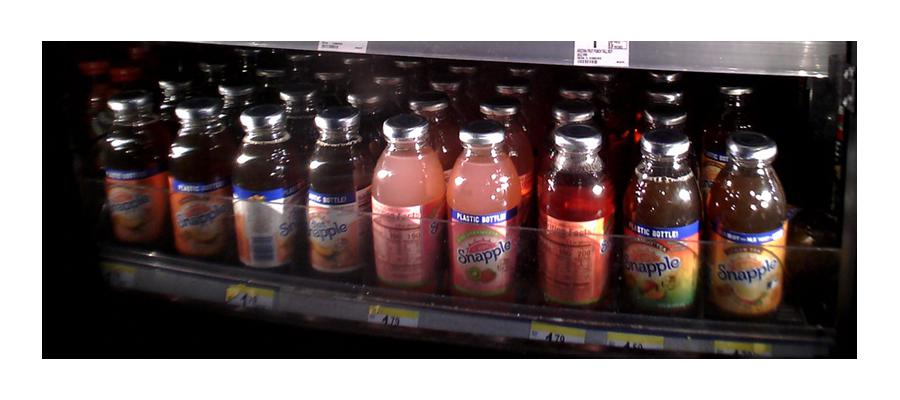bottle: (709, 131, 785, 323), (448, 117, 527, 300), (625, 128, 700, 318), (539, 123, 612, 314), (373, 111, 443, 298), (232, 104, 300, 279), (167, 96, 233, 262), (100, 94, 168, 252), (306, 107, 367, 282)
